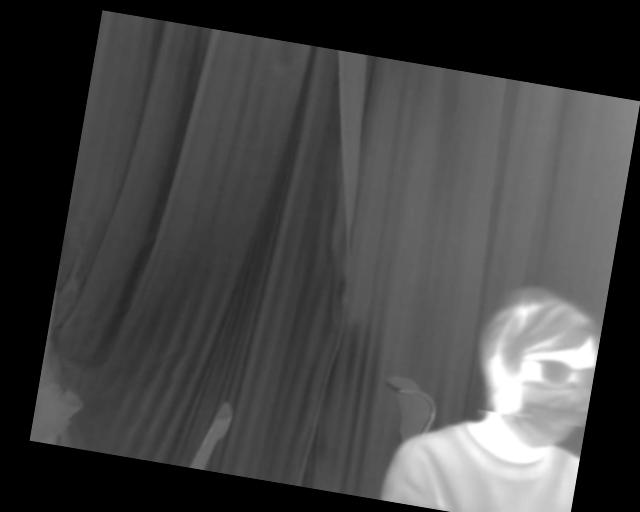face: (463, 281, 603, 455)
